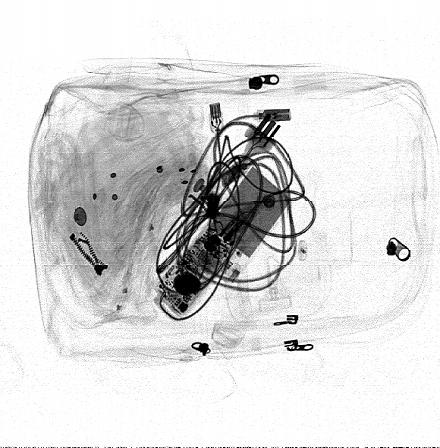Powerbank: (150, 163, 295, 326)
